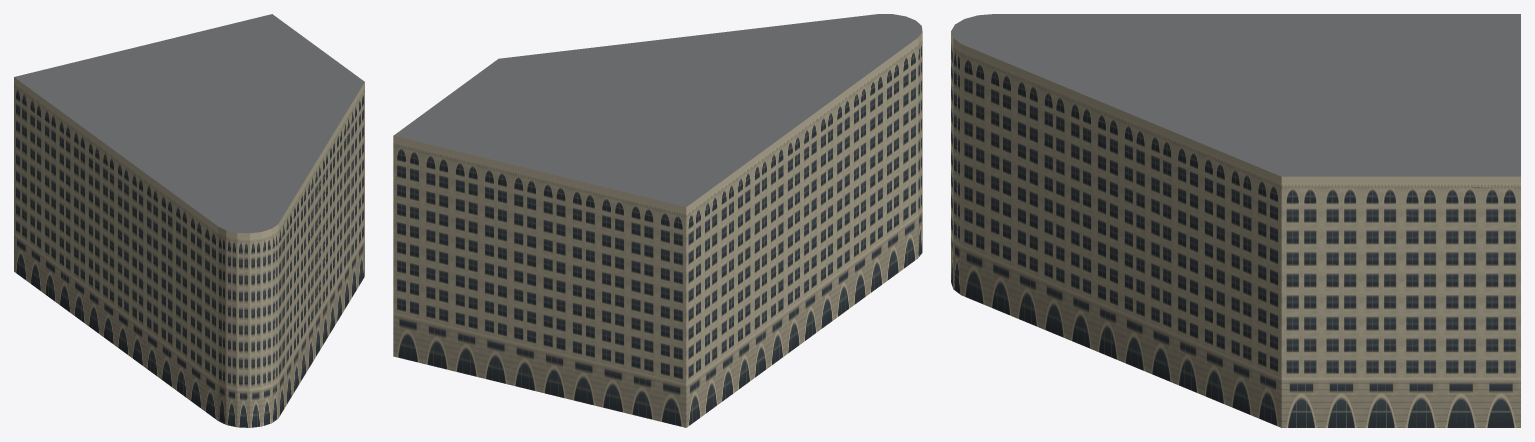
The model's file is phelan_building.glb.
The picture shows the model from 3 angles, left to right: view 1: azimuth 30°, elevation 25°; view 2: azimuth 150°, elevation 25°; view 3: azimuth 270°, elevation 25°; orthographic projection. The views are drawn at different scales.
Visible parts, largest first — view 1: phelan_building; view 2: phelan_building; view 3: phelan_building.
Part boxes in pixels (x1,y1,x2,y2): phelan_building: [14, 14, 364, 427]; phelan_building: [393, 14, 922, 427]; phelan_building: [951, 14, 1520, 427].
Bounding box in the file's own units: 62.49 × 45 × 92.5.
2 materials, 2 textured.
